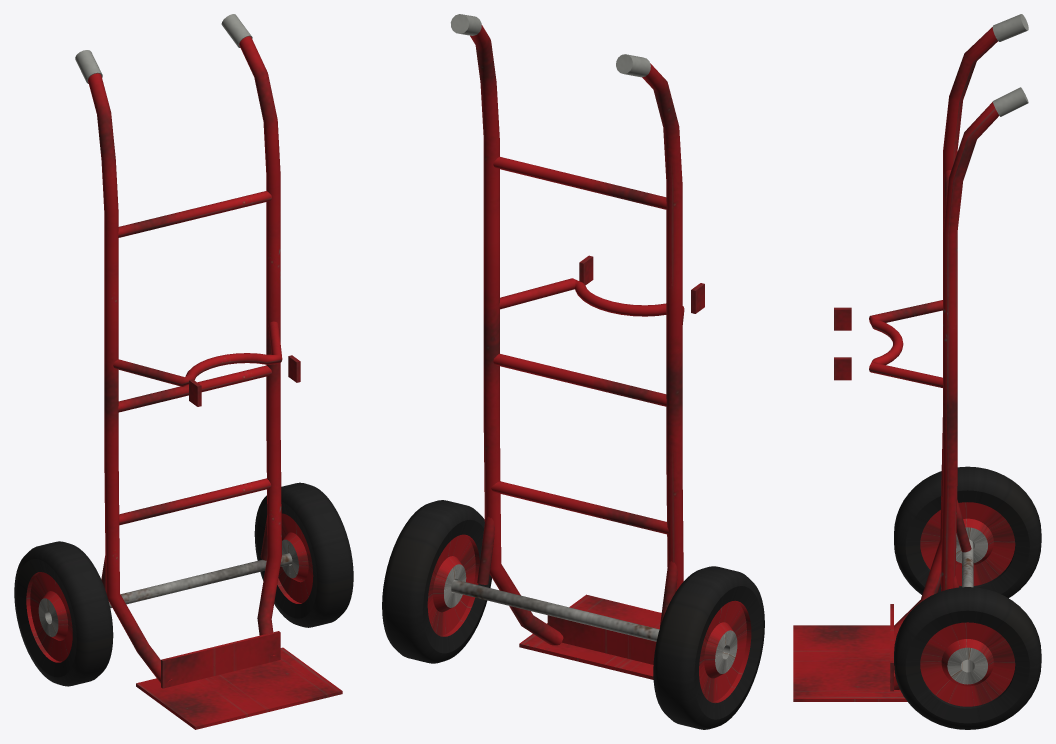
The model's file is SM_Chariot_Marteau.glb.
3 views of the same model, side by side, from view 1: azimuth 30°, elevation 25°; view 2: azimuth 150°, elevation 25°; view 3: azimuth 270°, elevation 25° (orthographic). The views are drawn at different scales.
Visible parts, largest first — view 1: Chariot_Cadre_rouge, Chariot_Roue_G_pneu, Chariot_Roue_D_pneu, Chariot_Roue_G_rouge, Chariot_Cadre_acier-chariot, Chariot_Roue_D_rouge, Chariot_Roue_G_acier-chariot; view 2: Chariot_Cadre_rouge, Chariot_Roue_G_pneu, Chariot_Roue_D_pneu, Chariot_Roue_G_rouge, Chariot_Roue_D_rouge, Chariot_Cadre_acier-chariot, Chariot_Roue_G_acier-chariot, Chariot_Poignee_G_gaine; view 3: Chariot_Cadre_rouge, Chariot_Roue_D_pneu, Chariot_Roue_G_pneu, Chariot_Roue_D_rouge, Chariot_Roue_G_rouge, Chariot_Roue_D_acier-chariot, Chariot_Poignee_G_gaine, Chariot_Poignee_D_gaine, Chariot_Roue_G_acier-chariot, Chariot_Cadre_acier-chariot.
Part boxes in pixels (left/top/right/bottom): Chariot_Cadre_rouge: left=88, top=36, right=342, bottom=729; Chariot_Roue_G_pneu: left=14, top=541, right=113, bottom=686; Chariot_Roue_D_pneu: left=254, top=482, right=353, bottom=627; Chariot_Roue_G_rouge: left=26, top=572, right=72, bottom=662; Chariot_Cadre_acier-chariot: left=109, top=553, right=292, bottom=608; Chariot_Roue_D_rouge: left=277, top=513, right=313, bottom=603; Chariot_Roue_G_acier-chariot: left=38, top=598, right=58, bottom=636; Chariot_Cadre_rouge: left=470, top=25, right=704, bottom=679; Chariot_Roue_G_pneu: left=653, top=566, right=764, bottom=729; Chariot_Roue_D_pneu: left=382, top=500, right=491, bottom=663; Chariot_Roue_G_rouge: left=699, top=600, right=751, bottom=703; Chariot_Roue_D_rouge: left=427, top=534, right=479, bottom=636; Chariot_Cadre_acier-chariot: left=451, top=579, right=659, bottom=641; Chariot_Roue_G_acier-chariot: left=715, top=630, right=737, bottom=673; Chariot_Poignee_G_gaine: left=616, top=54, right=650, bottom=77; Chariot_Cadre_rouge: left=793, top=27, right=999, bottom=701; Chariot_Roue_D_pneu: left=894, top=587, right=1041, bottom=729; Chariot_Roue_G_pneu: left=894, top=466, right=1041, bottom=598; Chariot_Roue_D_rouge: left=920, top=622, right=1015, bottom=706; Chariot_Roue_G_rouge: left=920, top=502, right=1015, bottom=585; Chariot_Roue_D_acier-chariot: left=947, top=647, right=987, bottom=684; Chariot_Poignee_G_gaine: left=992, top=14, right=1028, bottom=41; Chariot_Poignee_D_gaine: left=992, top=87, right=1028, bottom=116; Chariot_Roue_G_acier-chariot: left=956, top=527, right=987, bottom=563; Chariot_Cadre_acier-chariot: left=962, top=539, right=973, bottom=587.
Size of the model in its own units: 0.56 by 1.17 by 0.427.
Materials: 4 (4 with a texture image).
